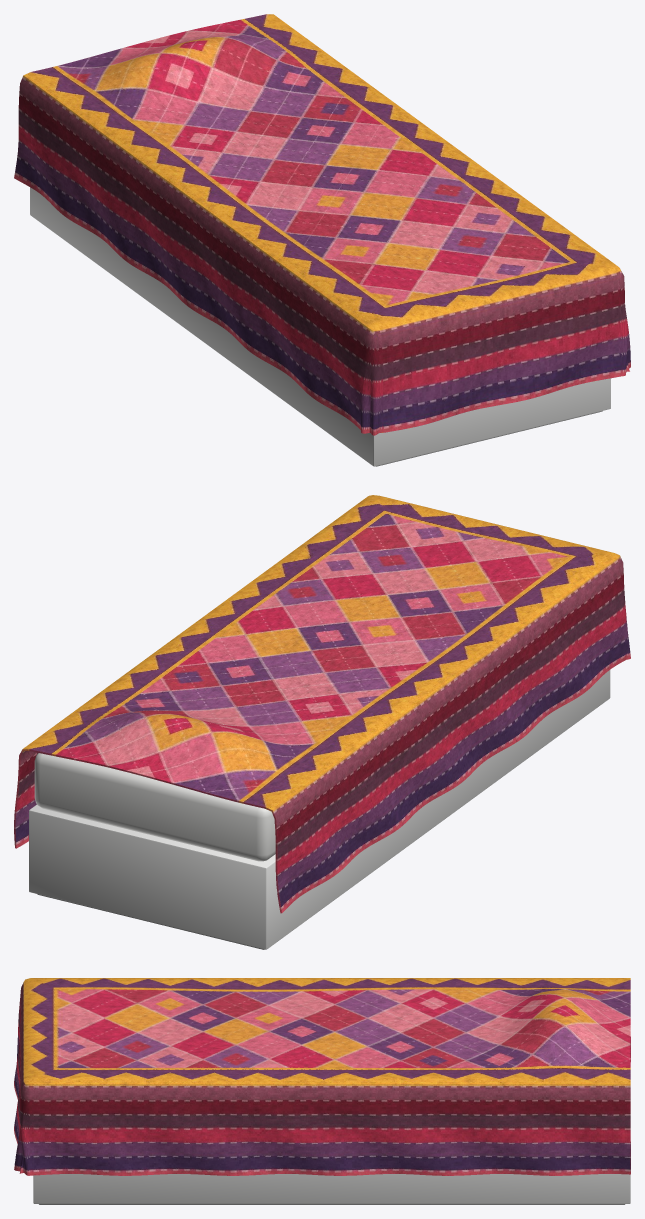
Rendered from recbeSwPLw8zUaXYa.glb.
3 renders of one model, top to bottom at view 1: azimuth 30°, elevation 25°; view 2: azimuth 150°, elevation 25°; view 3: azimuth 270°, elevation 25°, orthographic. The views are drawn at different scales.
Parts seen in each view (by area): view 1: lit_appoint_mezzanine_Corps; view 2: lit_appoint_mezzanine_Corps; view 3: lit_appoint_mezzanine_Corps.
Part boxes in pixels (box(x1,y1,x2,y2)): lit_appoint_mezzanine_Corps: box(14, 14, 630, 466); lit_appoint_mezzanine_Corps: box(14, 495, 630, 949); lit_appoint_mezzanine_Corps: box(14, 978, 630, 1204).
Bounding box in the file's own units: 0.9914 × 0.6019 × 2.25.
4 materials, 1 textured.
